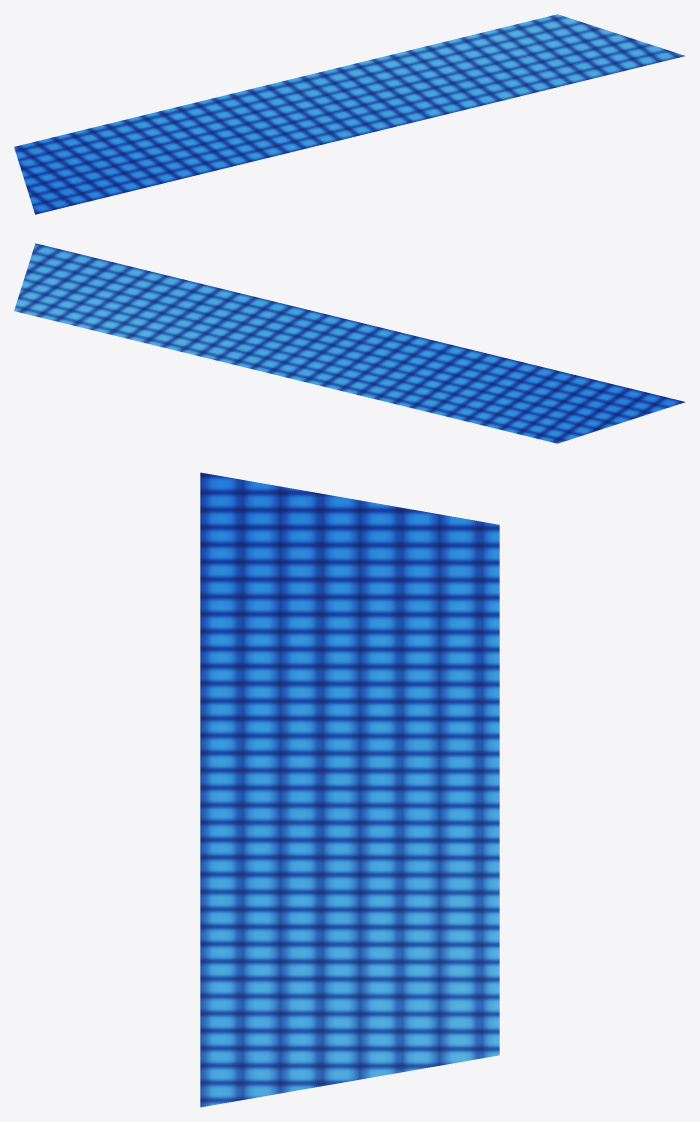
Rendered from FUS0110024.fbx.
3 renders of one model, top to bottom at view 1: azimuth 30°, elevation 25°; view 2: azimuth 150°, elevation 25°; view 3: azimuth 270°, elevation 25°, orthographic. The views are drawn at different scales.
Visible parts, largest first — view 1: smFUS0110024; view 2: smFUS0110024; view 3: smFUS0110024.
Part boxes in pixels (box(x1,y1,x2,y2)): smFUS0110024: box(14, 14, 684, 214); smFUS0110024: box(14, 243, 685, 443); smFUS0110024: box(200, 472, 499, 1107).
Bounding box in the file's own units: 4181 × 0.0014 × 833.
1 material, 1 textured.
